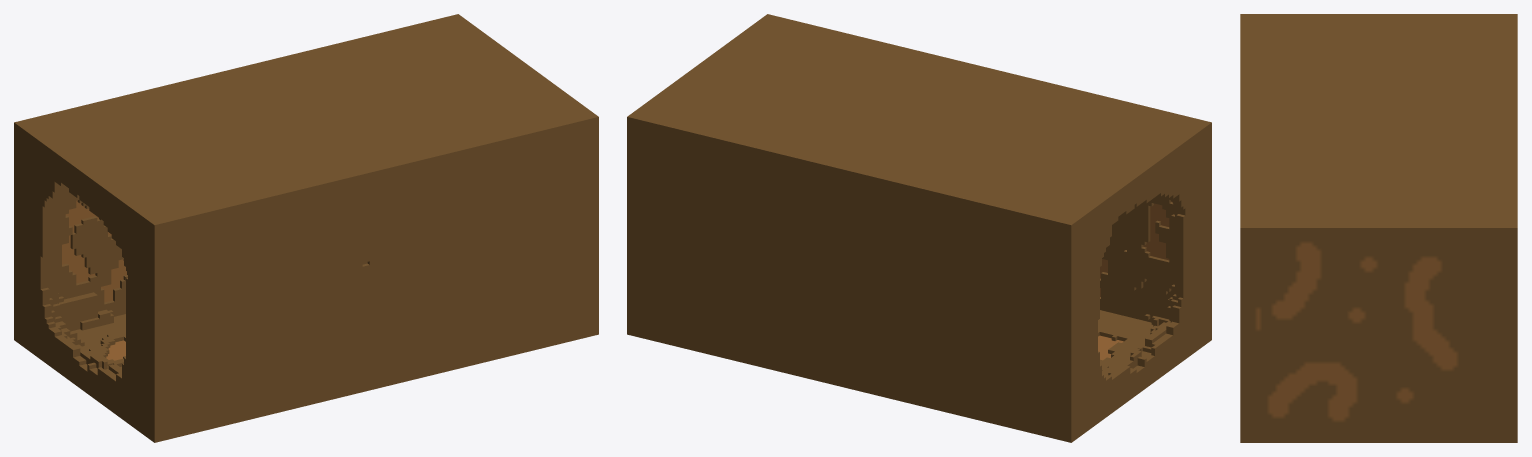
File: Level1_player_start_template_v1.dae
The picture shows the model from 3 angles, left to right: view 1: azimuth 30°, elevation 25°; view 2: azimuth 150°, elevation 25°; view 3: azimuth 270°, elevation 25°; orthographic projection.
Visible parts, largest first — view 1: level1_player_start_template_v1.level_1_player_start_templat; view 2: level1_player_start_template_v1.level_1_player_start_templat; view 3: level1_player_start_template_v1.level_1_player_start_templat.
Part boxes in pixels (left/top/right/bottom): level1_player_start_template_v1.level_1_player_start_templat: left=14, top=14, right=598, bottom=442; level1_player_start_template_v1.level_1_player_start_templat: left=627, top=14, right=1211, bottom=442; level1_player_start_template_v1.level_1_player_start_templat: left=1240, top=14, right=1517, bottom=442.
Bounding box in the file's own units: 12.6 × 5.9 × 6.9.
1 material, 1 textured.
